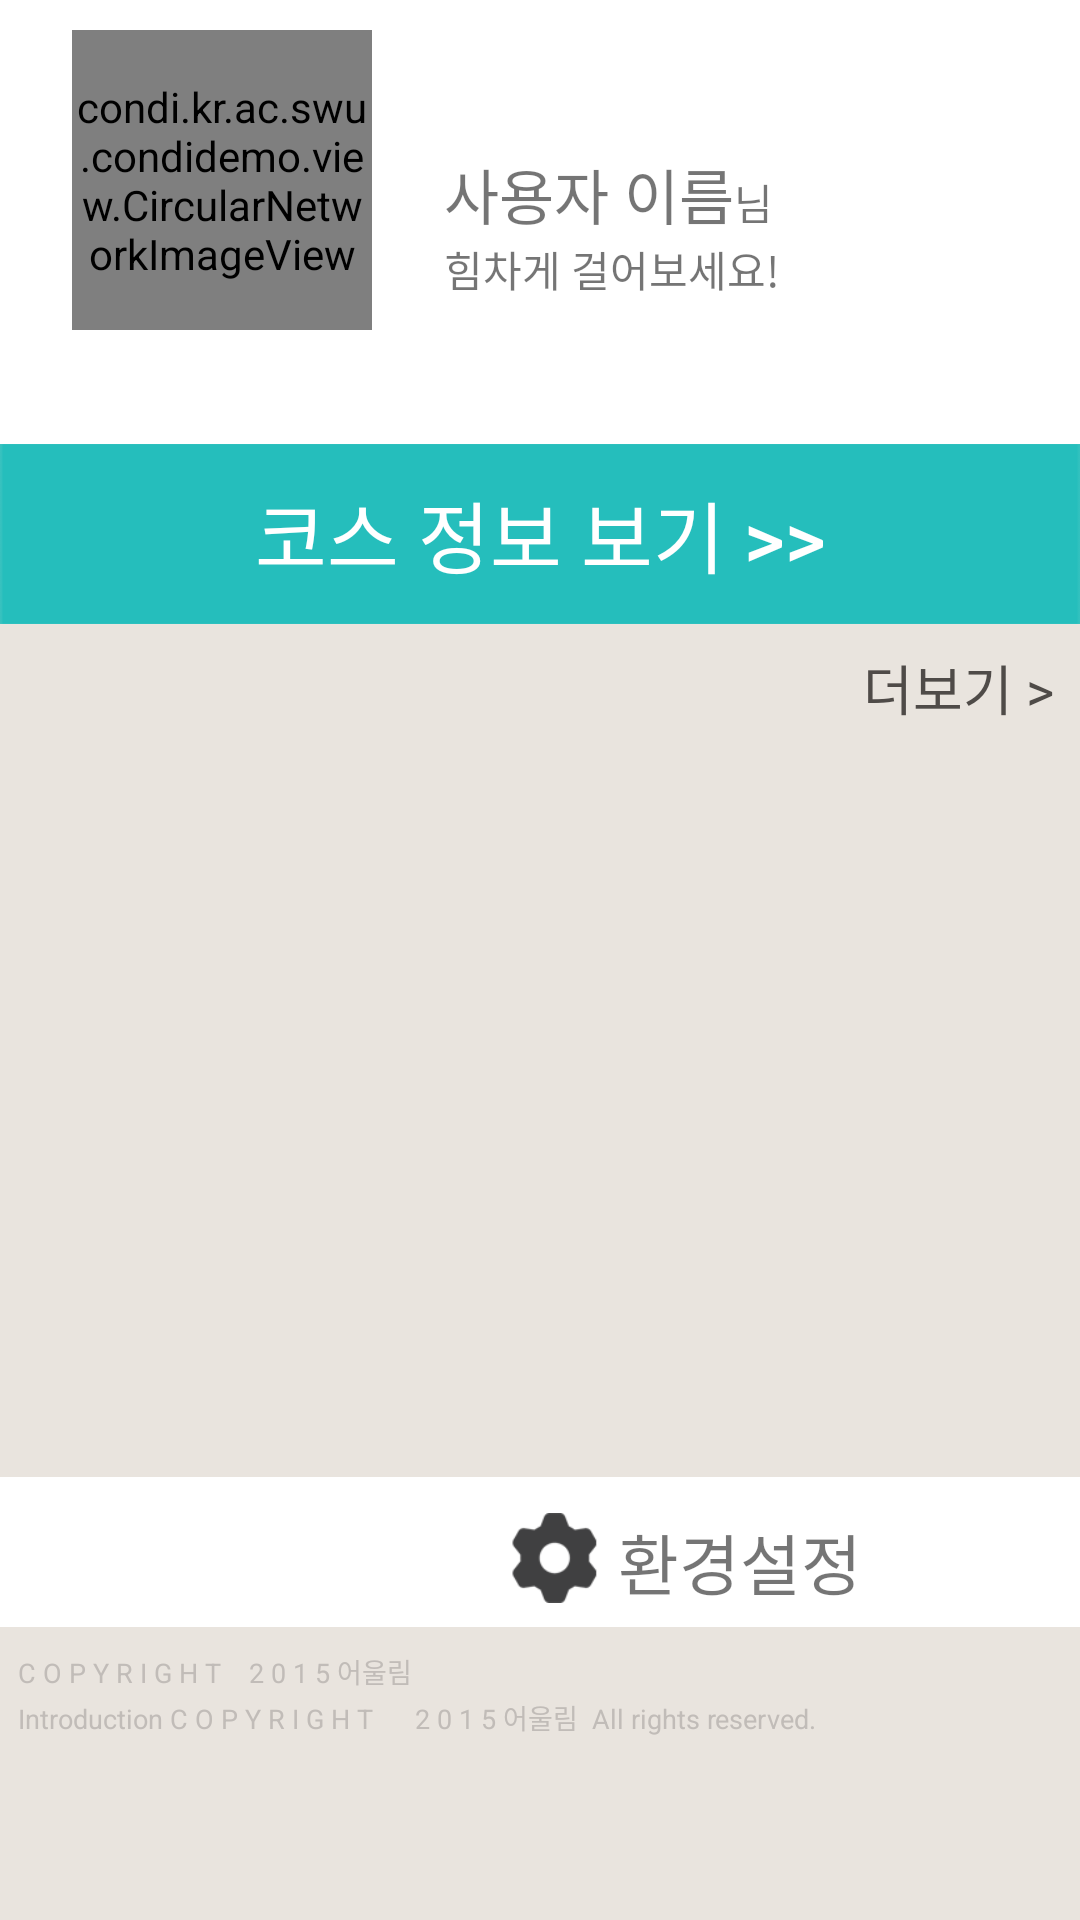

Screen size 1080px×1920px. Icon name, then its center in pixels as [x,y]:
setting: [554,1558]
